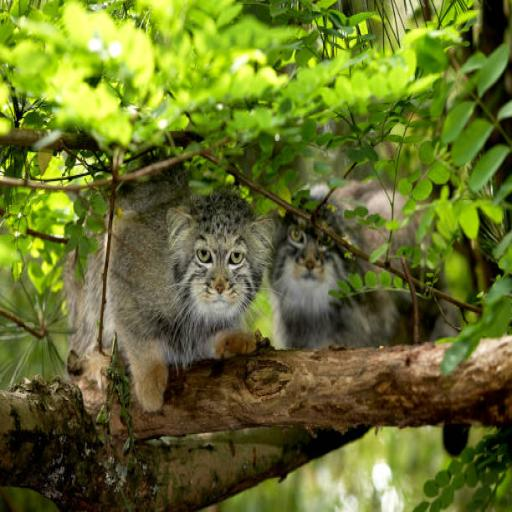manul: (107, 192, 410, 411)
